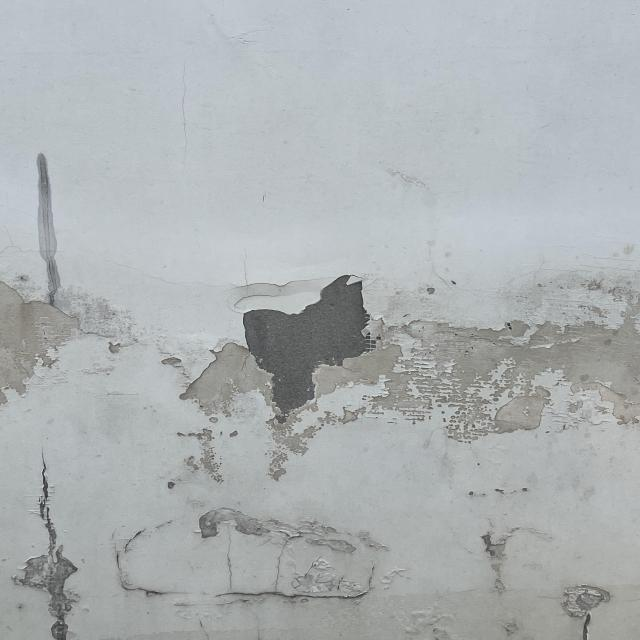crack: (158, 51, 214, 160)
spalling: (169, 279, 640, 480), (1, 144, 148, 422), (101, 503, 412, 610), (3, 452, 96, 639), (530, 574, 637, 640), (467, 521, 527, 601)
